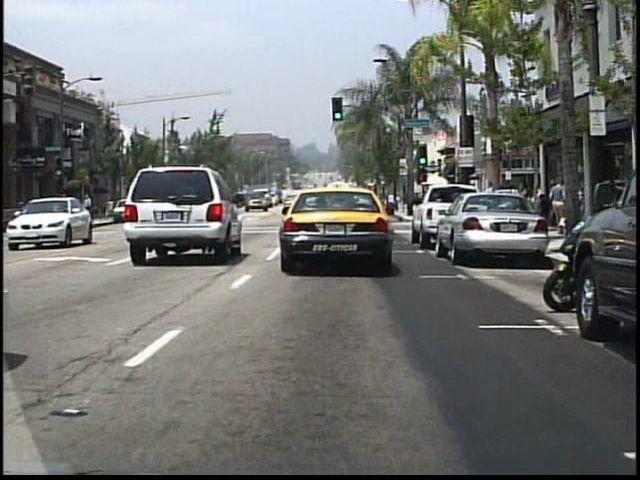person: (548, 177, 567, 233), (514, 178, 533, 234)
